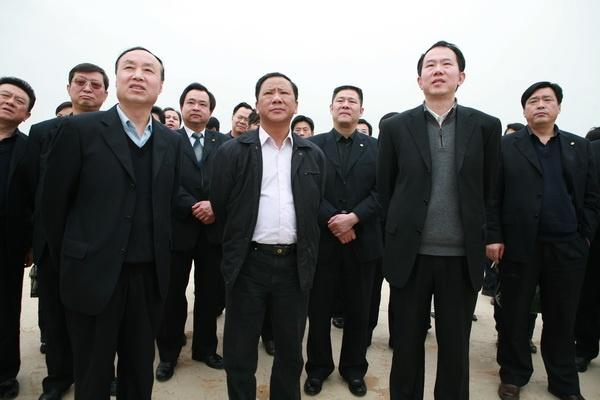NoHelmet: (114, 47, 165, 109), (415, 41, 467, 95), (254, 72, 300, 125)
NoVest: (377, 106, 506, 249), (214, 128, 324, 263)
